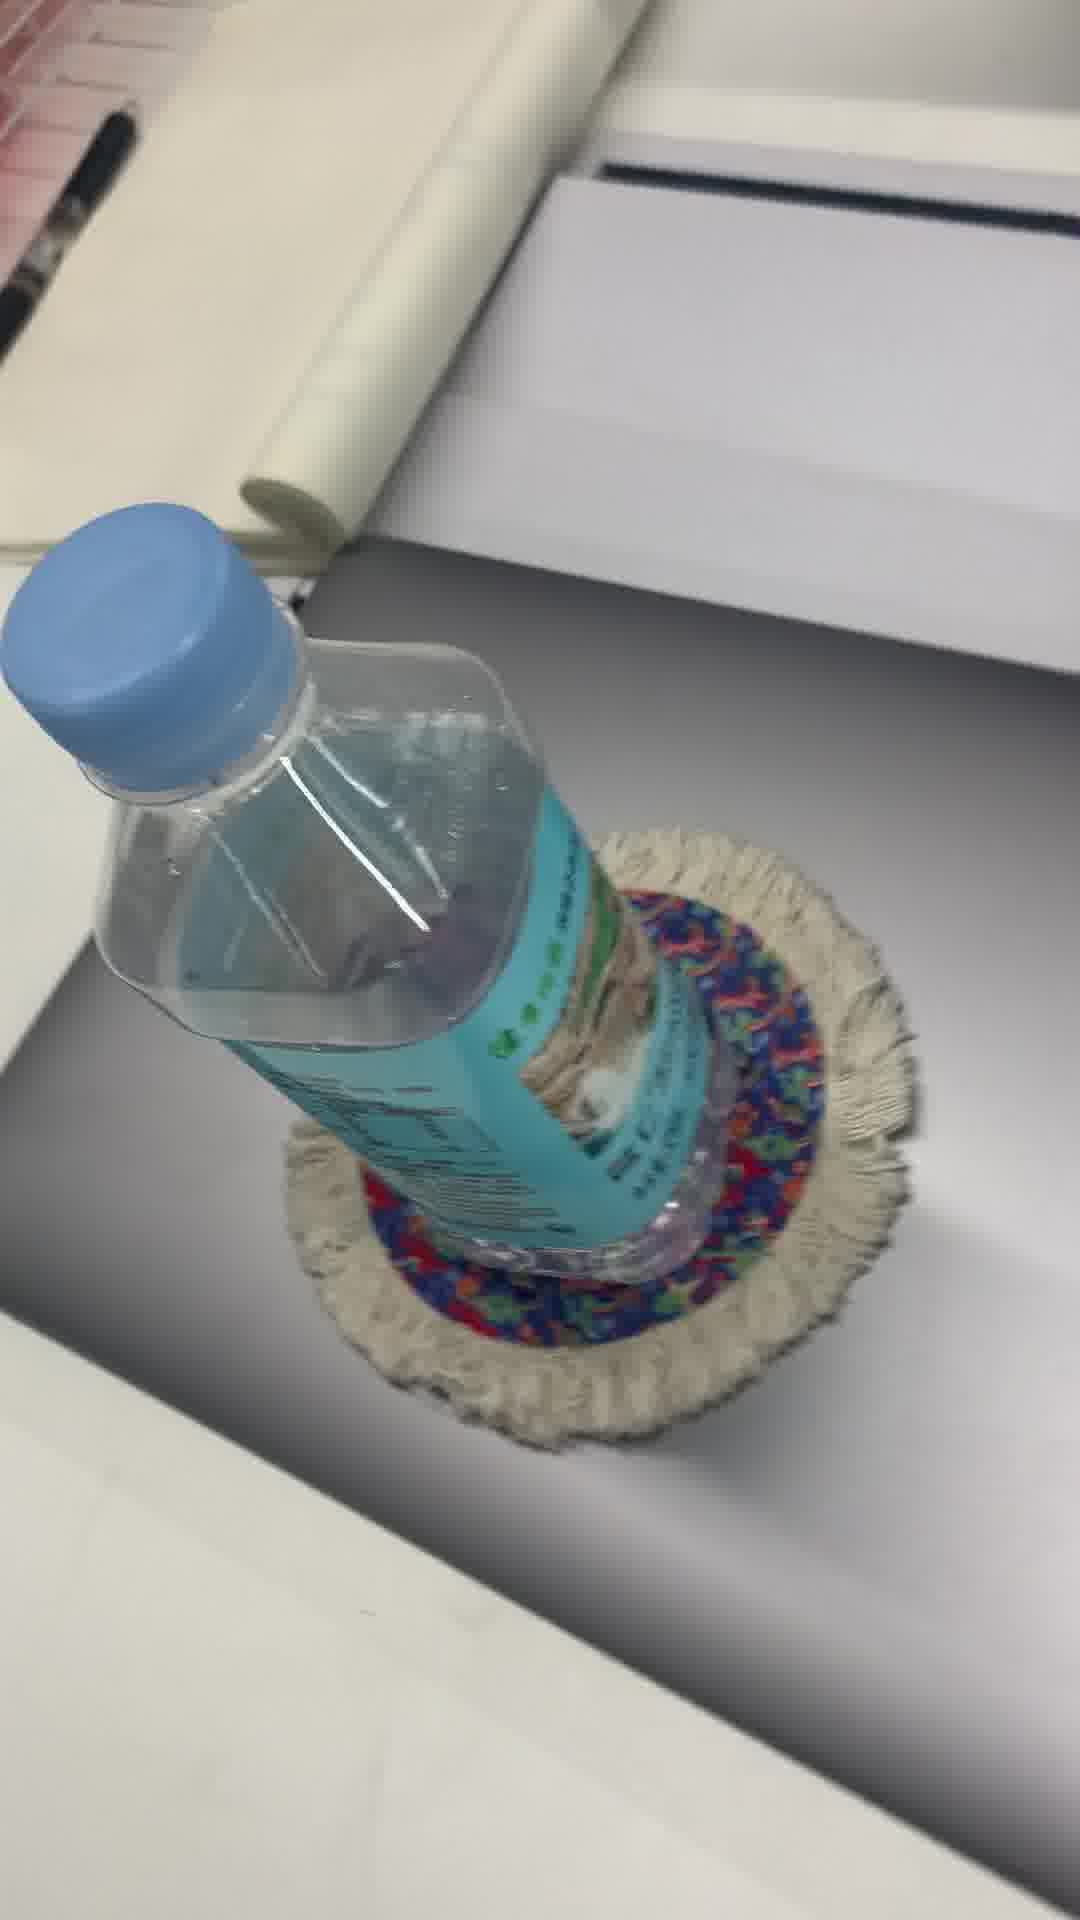水瓶: (5, 505, 753, 1298)
